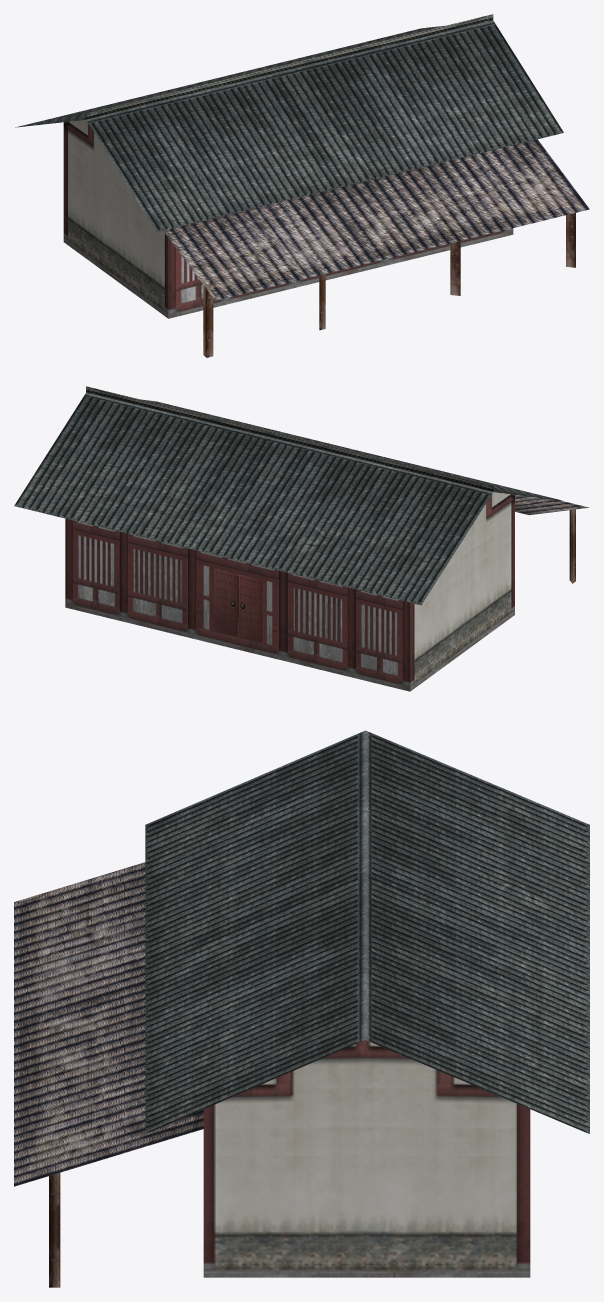
File: Chinese_Palace_Low_Poly_23_FBX.FBX
3 renders of one model, top to bottom at view 1: azimuth 30°, elevation 25°; view 2: azimuth 150°, elevation 25°; view 3: azimuth 270°, elevation 25°, orthographic. The views are drawn at different scales.
Parts seen in each view (by area): view 1: Chinese_Palace_Low_Poly_23; view 2: Chinese_Palace_Low_Poly_23; view 3: Chinese_Palace_Low_Poly_23.
Boxes of the visible parts, bbox=[...] form: Chinese_Palace_Low_Poly_23: bbox=[15, 14, 589, 357]; Chinese_Palace_Low_Poly_23: bbox=[14, 386, 588, 691]; Chinese_Palace_Low_Poly_23: bbox=[14, 730, 589, 1287].
Size of the model in its own units: 2658 by 2091 by 1090.
Materials: 1 (1 with a texture image).
